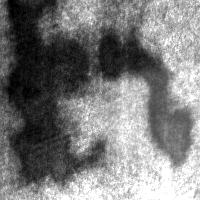patches: (3, 1, 86, 178), (96, 28, 194, 167), (91, 65, 197, 171), (116, 57, 200, 185)
